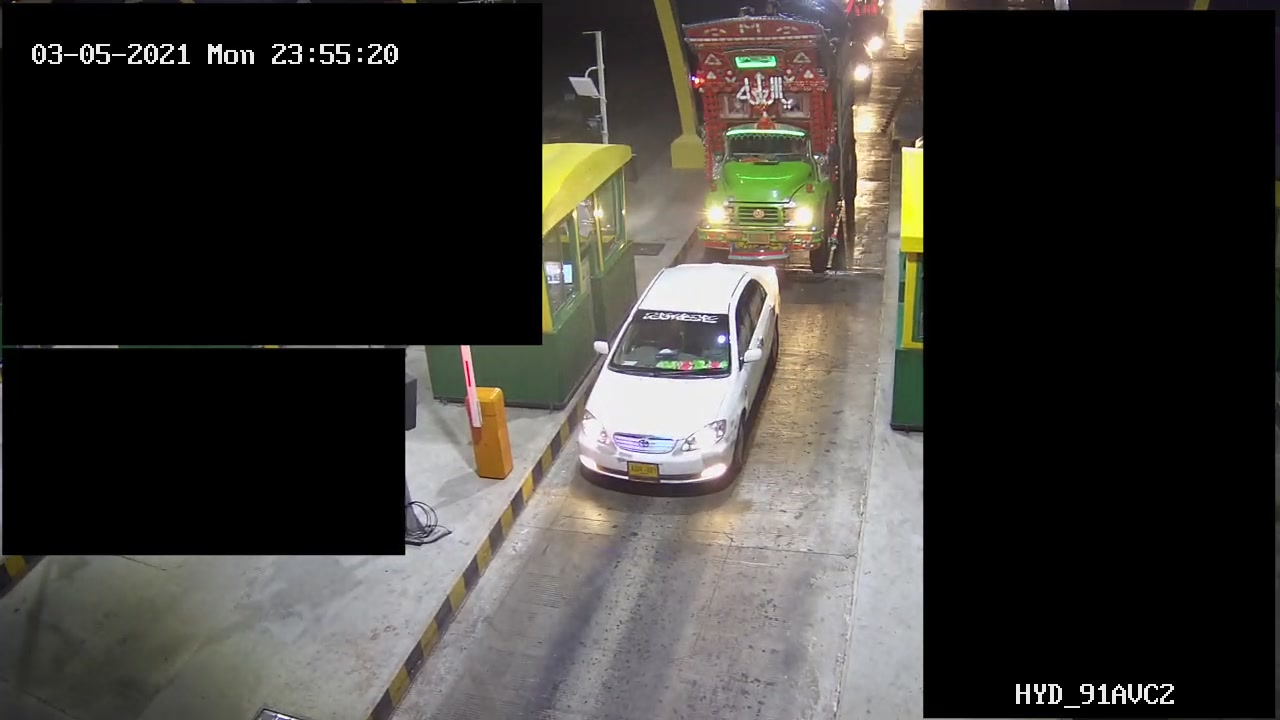F1: (560, 261, 798, 508)
